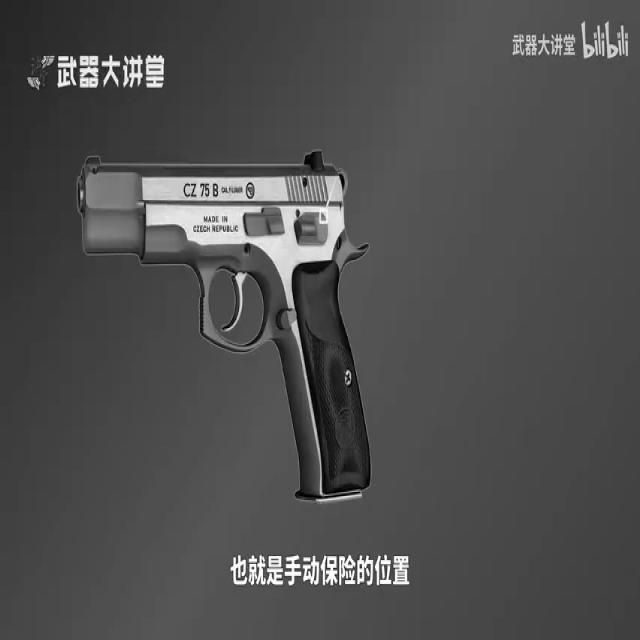Hand-Gun: (72, 136, 382, 516)
